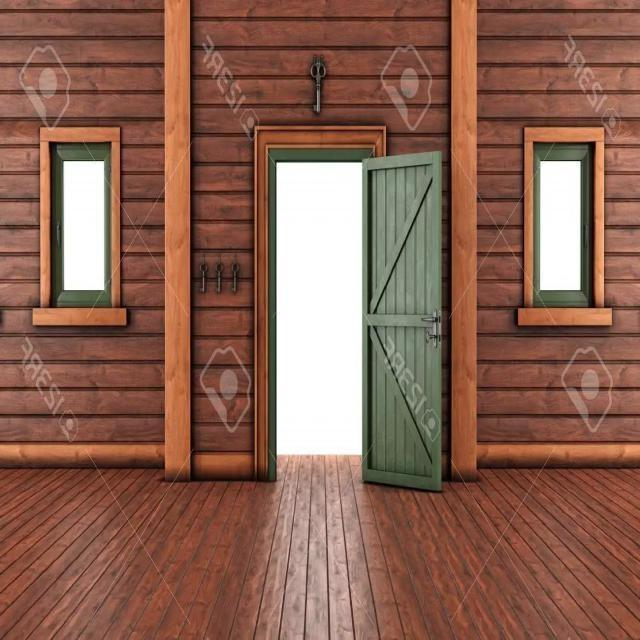door: (361, 150, 443, 491)
